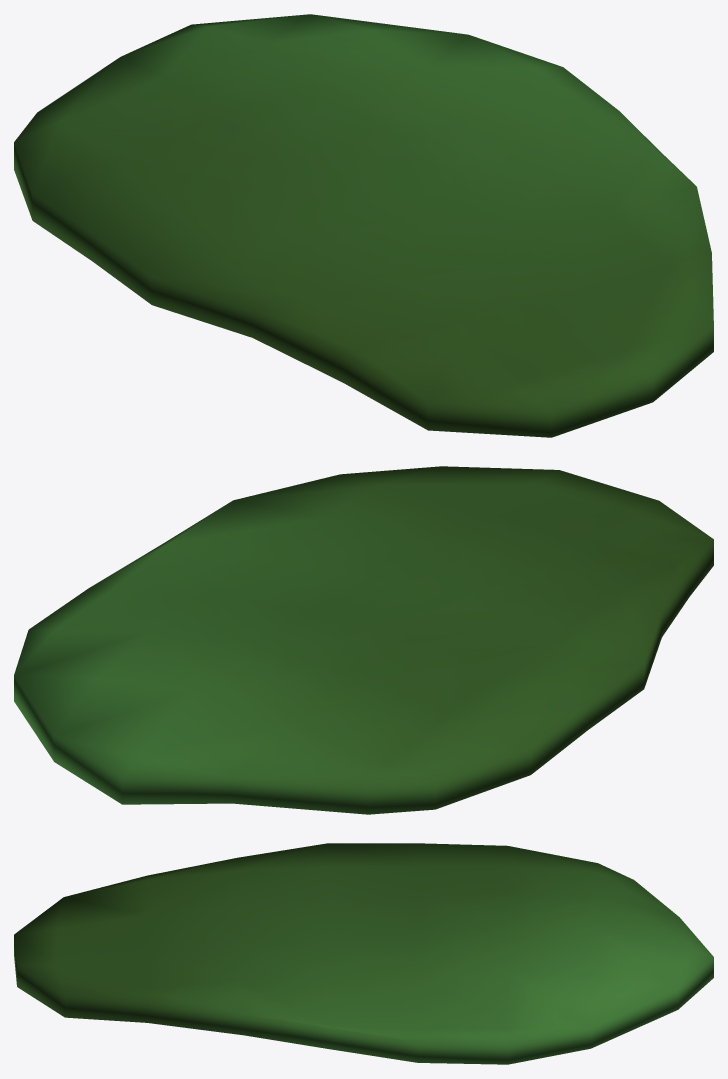
Rendered from rock_kicking_park_ground-covcolonly.glb.
3 renders of one model, top to bottom at view 1: azimuth 30°, elevation 25°; view 2: azimuth 150°, elevation 25°; view 3: azimuth 270°, elevation 25°, orthographic. The views are drawn at different scales.
Visible parts, largest first — view 1: GroundRealNoTrees.001-convcolonly; view 2: GroundRealNoTrees.001-convcolonly; view 3: GroundRealNoTrees.001-convcolonly.
Part boxes in pixels (bbox=[...]): GroundRealNoTrees.001-convcolonly: bbox=[14, 14, 713, 437]; GroundRealNoTrees.001-convcolonly: bbox=[14, 466, 713, 814]; GroundRealNoTrees.001-convcolonly: bbox=[14, 843, 713, 1064].
Bounding box in the file's own units: 122 × 19.93 × 185.
Materials: 1 (1 with a texture image).
